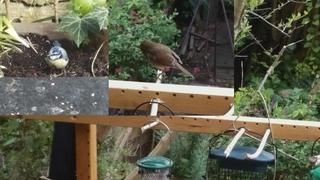blue tit: (45, 40, 69, 77)
robin: (137, 40, 194, 78)
